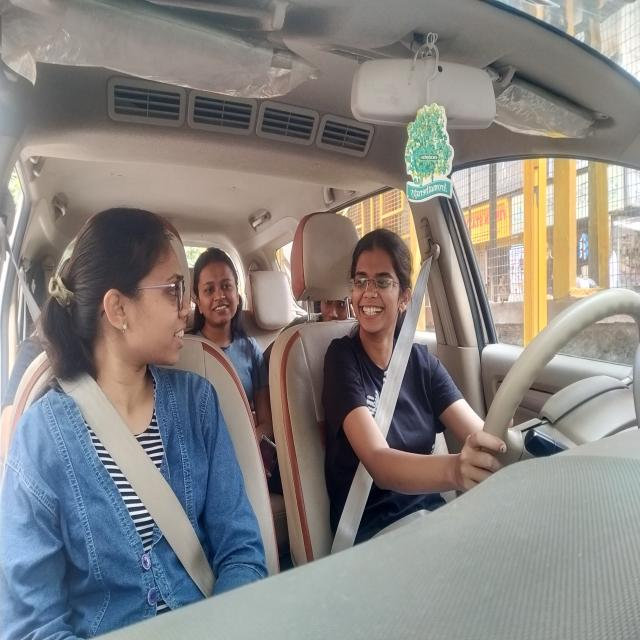LeftRight: (347, 221, 418, 358)
person: (79, 203, 192, 384), (190, 236, 243, 340), (318, 297, 346, 322)
talking: (169, 320, 194, 354), (357, 299, 385, 327)
